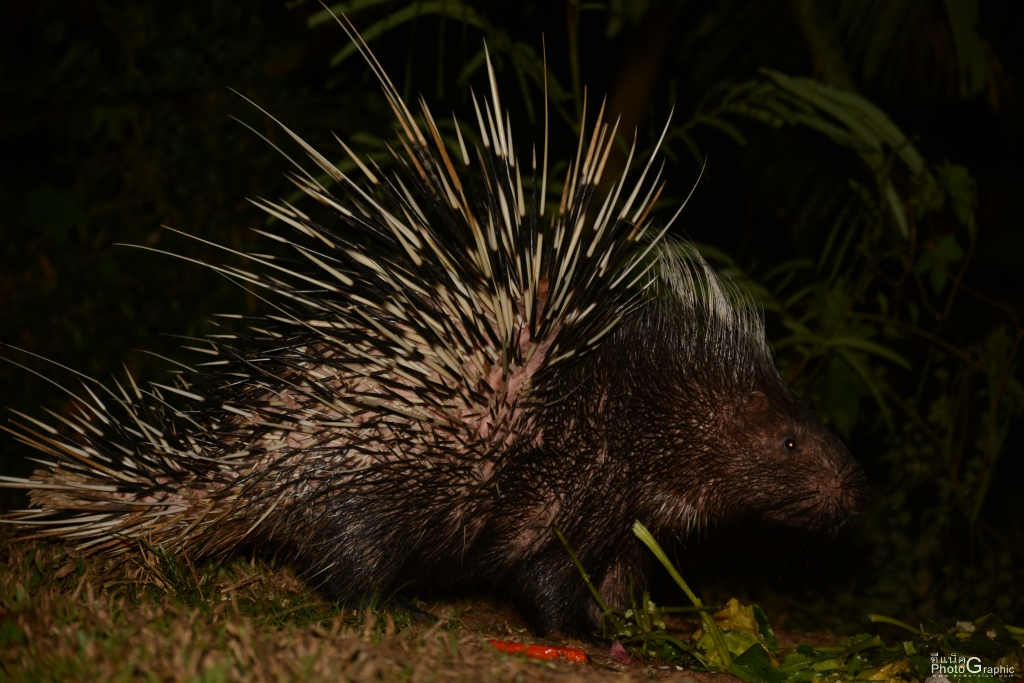porcupine: (1, 68, 925, 647)
